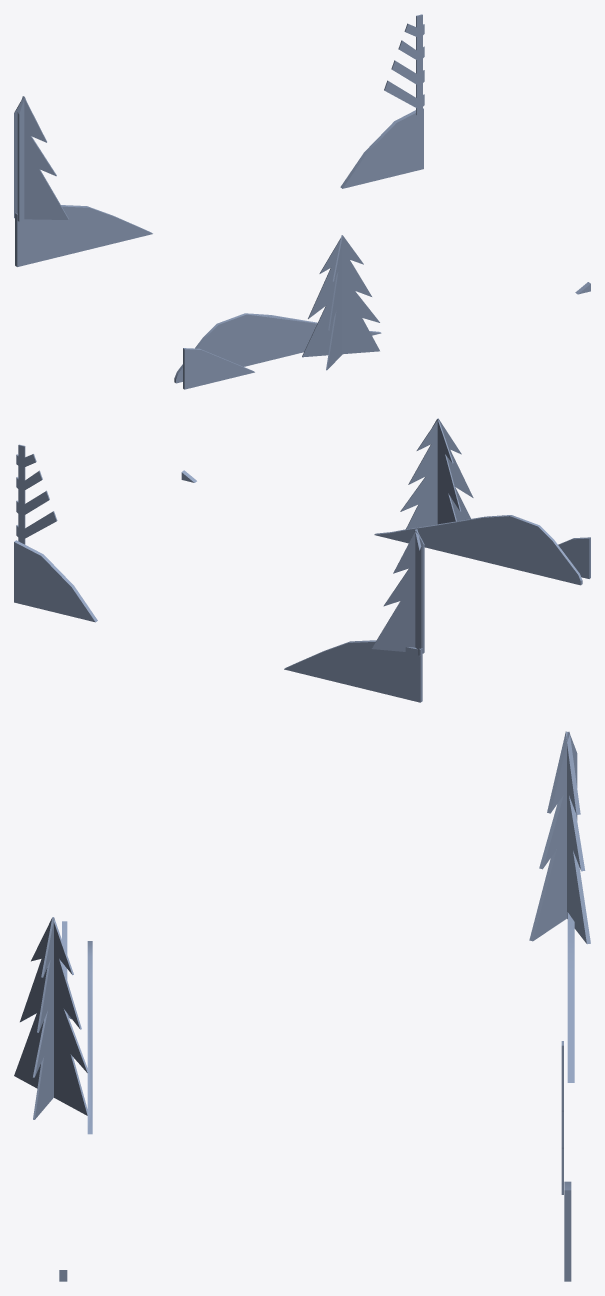
File: frame_0162.glb
The picture shows the model from 3 angles, top to bottom: view 1: azimuth 30°, elevation 25°; view 2: azimuth 150°, elevation 25°; view 3: azimuth 270°, elevation 25°; orthographic projection. The views are drawn at different scales.
Parts seen in each view (by area): view 1: export_trees_001.002; view 2: export_trees_001.002; view 3: export_trees_001.002.
Boxes of the visible parts, x1=… form: export_trees_001.002: x1=14, y1=14, x2=590, y2=389; export_trees_001.002: x1=14, y1=418, x2=590, y2=702; export_trees_001.002: x1=14, y1=731, x2=590, y2=1281.
Bounding box in the file's own units: 0.4327 × 0.1724 × 0.3529.
